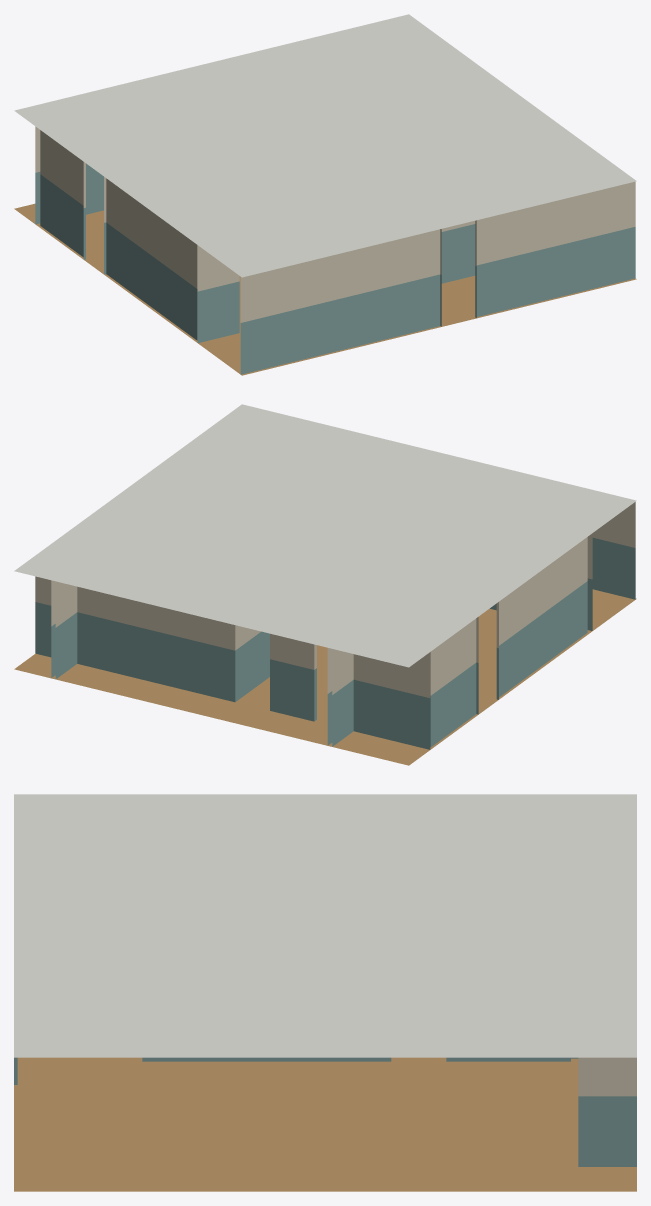
File: chunk_3_3.glb
3 renders of one model, top to bottom at view 1: azimuth 30°, elevation 25°; view 2: azimuth 150°, elevation 25°; view 3: azimuth 270°, elevation 25°, orthographic. The views are drawn at different scales.
Parts seen in each view (by area): view 1: chunk_3_3; view 2: chunk_3_3; view 3: chunk_3_3.
Boxes of the visible parts, left/top/right/bottom form: chunk_3_3: left=14, top=14, right=636, bottom=375; chunk_3_3: left=14, top=404, right=636, bottom=765; chunk_3_3: left=14, top=794, right=636, bottom=1191.
Bounding box in the file's own units: 12 × 2.85 × 12.
